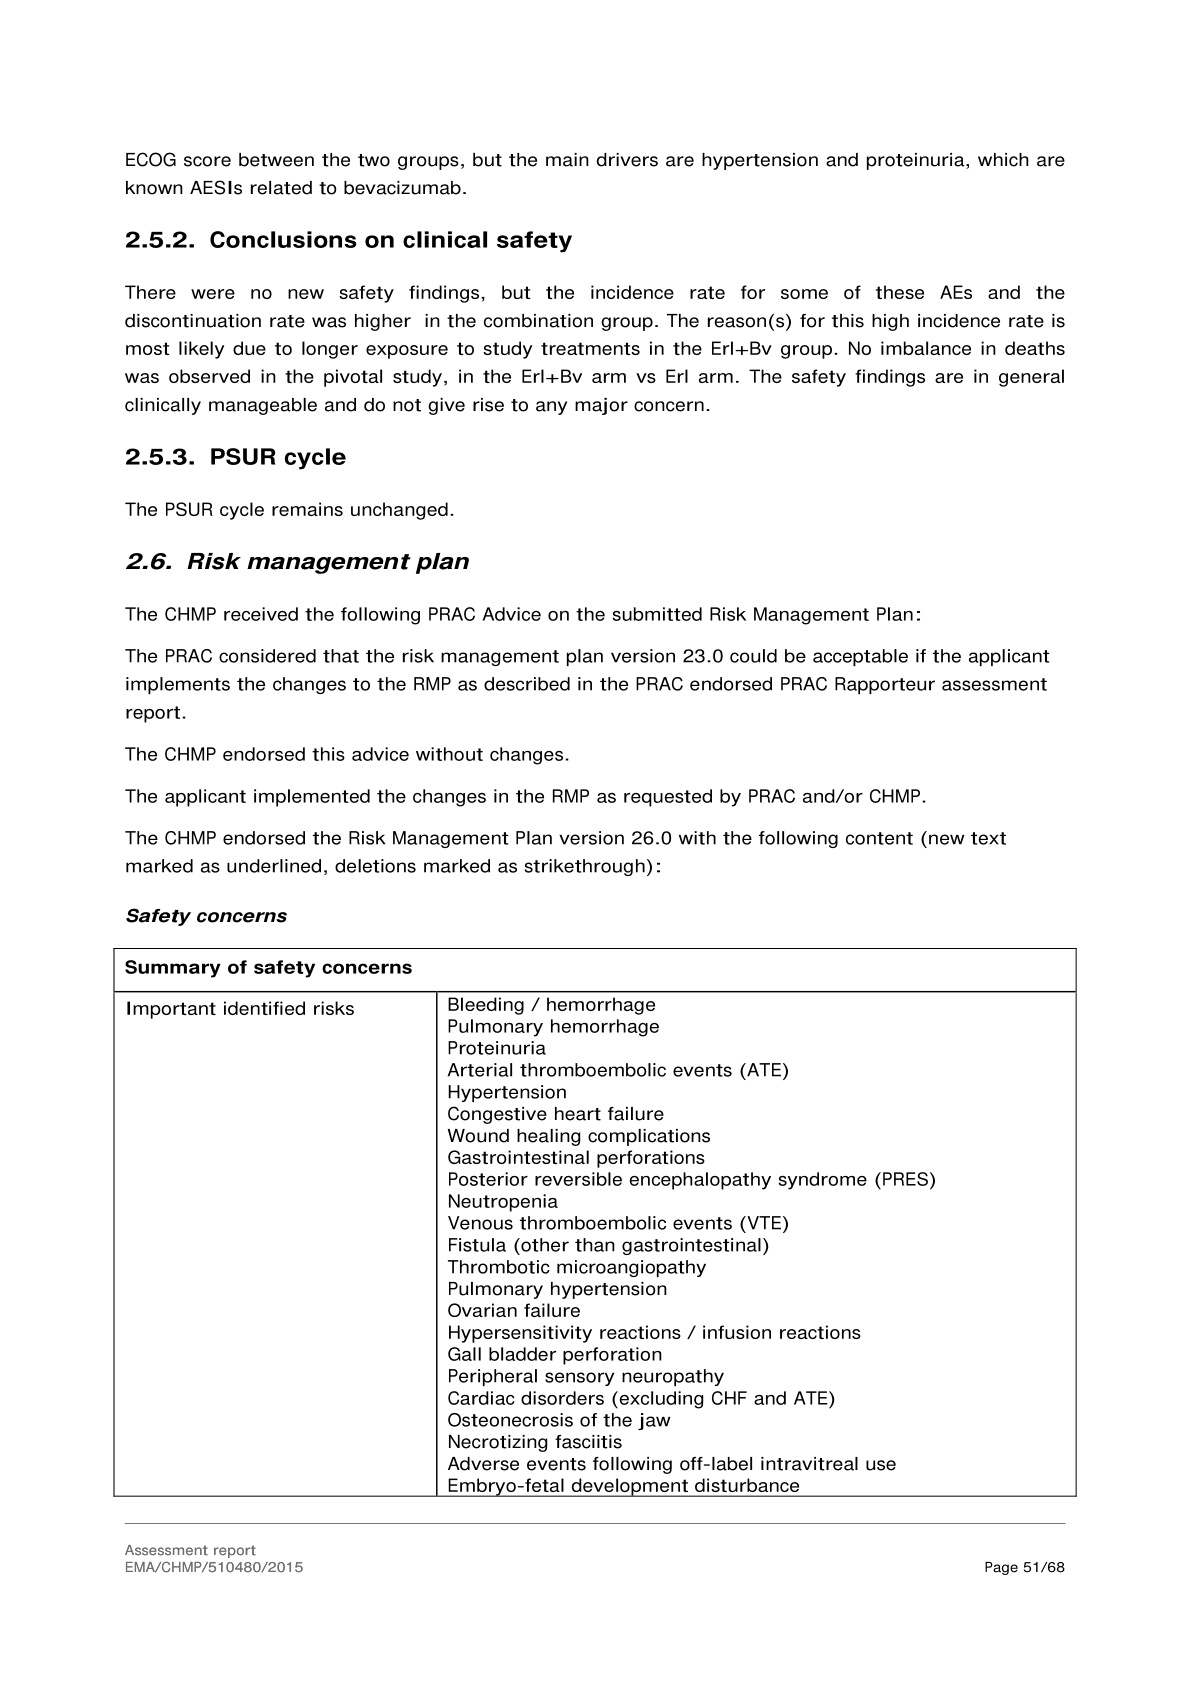merged_cells: (113, 947, 1078, 1498)
